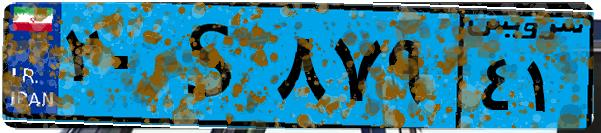0: (110, 28, 158, 98)
1: (525, 38, 570, 115)
2: (57, 26, 110, 100)
4: (475, 38, 525, 113)
7: (330, 28, 385, 110)
8: (270, 28, 330, 110)
9: (385, 28, 445, 110)
S: (158, 12, 270, 120)
